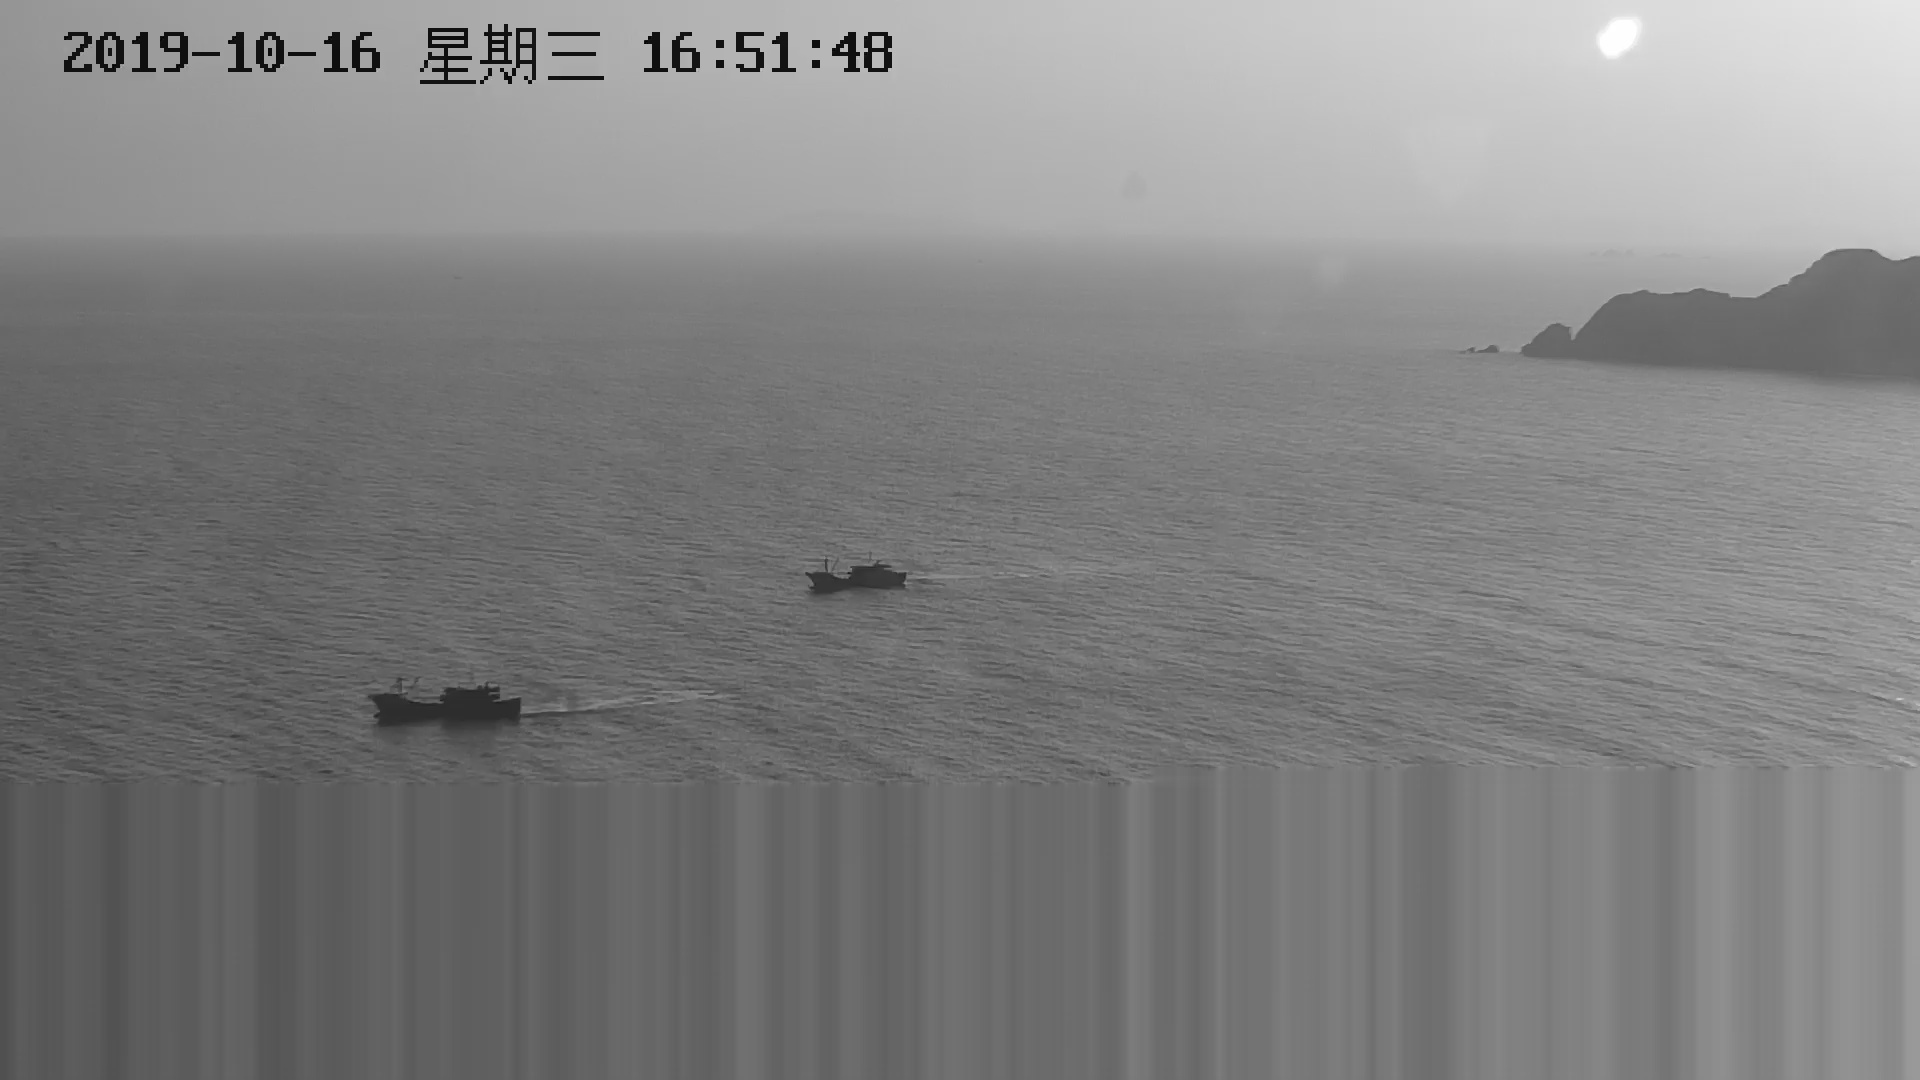ship: (364, 673, 526, 735), (804, 555, 910, 593)
